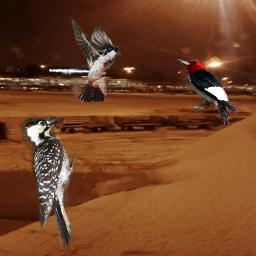Swallow: (69, 16, 121, 102)
Woodpecker: (18, 116, 81, 249), (176, 59, 238, 127)
